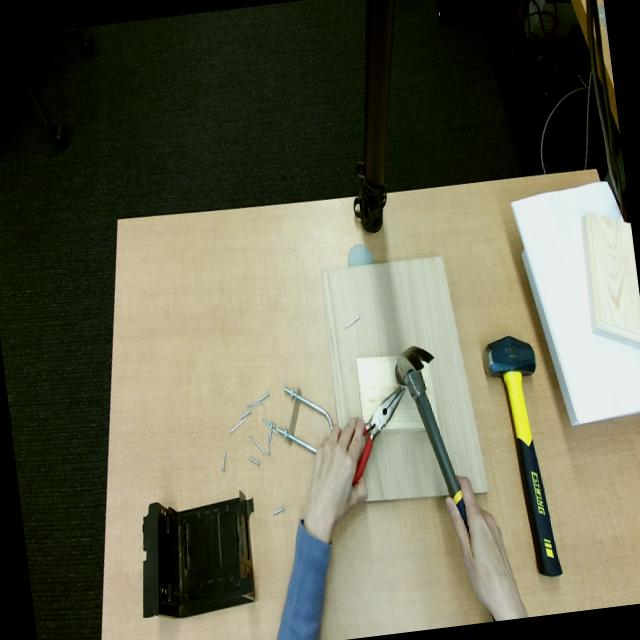hammer: (483, 335, 561, 575), (394, 347, 467, 530)
pliers: (353, 387, 404, 483)
